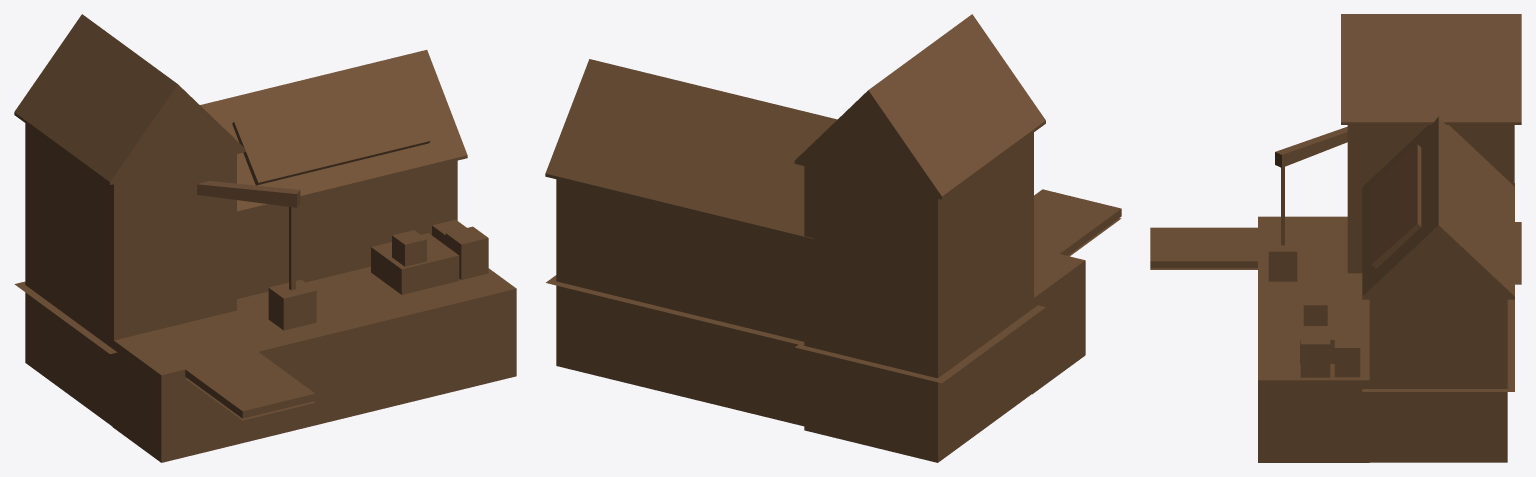
The model's file is common-selection.fbx.
The picture shows the model from 3 angles, left to right: view 1: azimuth 30°, elevation 25°; view 2: azimuth 150°, elevation 25°; view 3: azimuth 270°, elevation 25°; orthographic projection. The views are drawn at different scales.
Parts seen in each view (by area): view 1: PickVolume, ShoreFootprint; view 2: PickVolume, ShoreFootprint; view 3: PickVolume, ShoreFootprint.
Part boxes in pixels (box(x1,y1,x2,y2)): PickVolume: box(14, 14, 516, 462); ShoreFootprint: box(14, 281, 314, 420); PickVolume: box(545, 14, 1121, 462); ShoreFootprint: box(546, 218, 1121, 383); PickVolume: box(1150, 14, 1521, 462); ShoreFootprint: box(1150, 222, 1521, 391).
Bounding box in the file's own units: 0.0241 × 0.0208 × 0.0223.
